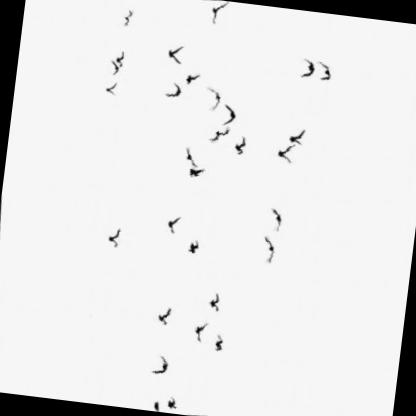bird: (258, 232, 280, 265), (207, 0, 231, 28), (203, 84, 224, 114), (206, 122, 231, 147), (265, 205, 285, 234), (273, 142, 297, 166), (147, 353, 170, 377), (313, 59, 335, 83), (153, 306, 174, 328), (297, 57, 317, 80), (203, 291, 222, 315), (220, 103, 239, 127), (181, 145, 199, 170), (164, 44, 184, 66), (191, 320, 209, 344), (286, 127, 307, 147), (104, 225, 121, 249), (163, 80, 183, 100), (231, 135, 249, 157), (165, 214, 181, 236), (102, 80, 120, 98), (210, 332, 225, 353), (183, 71, 201, 88), (185, 237, 201, 256), (162, 394, 179, 411), (187, 166, 208, 179), (120, 8, 134, 27), (107, 60, 121, 77), (113, 48, 125, 67)
